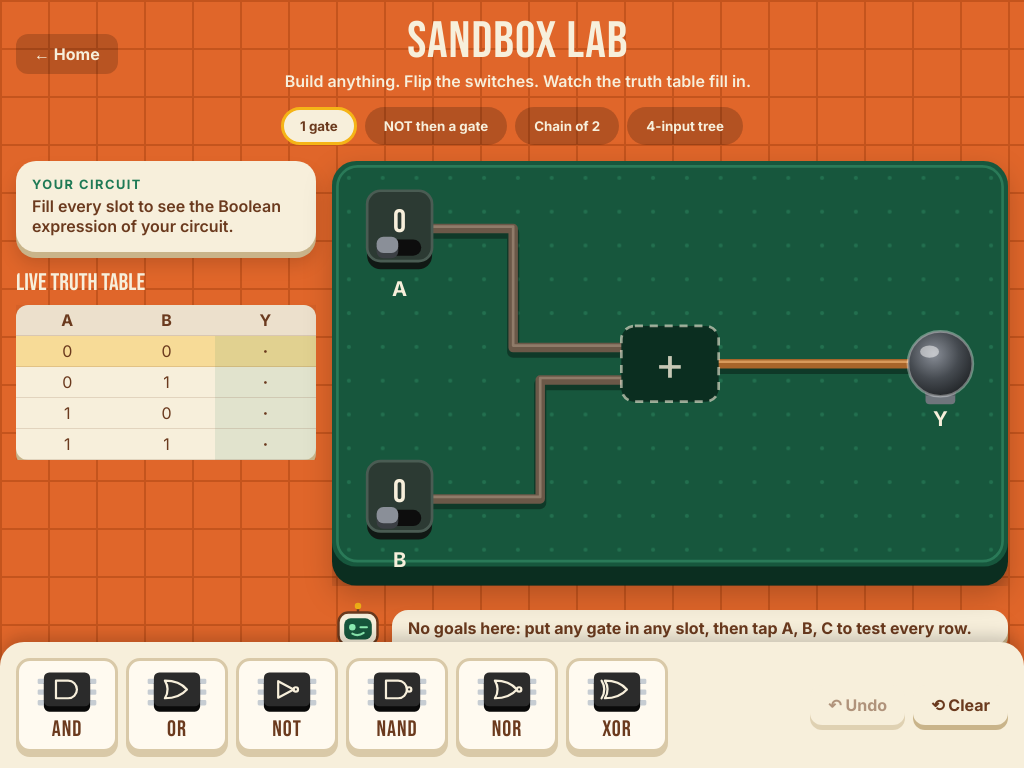
SandboxPage › offers bigger circuit shapes
Click the button "4-input tree".
click(685, 126)  # box [627,107,743,145]
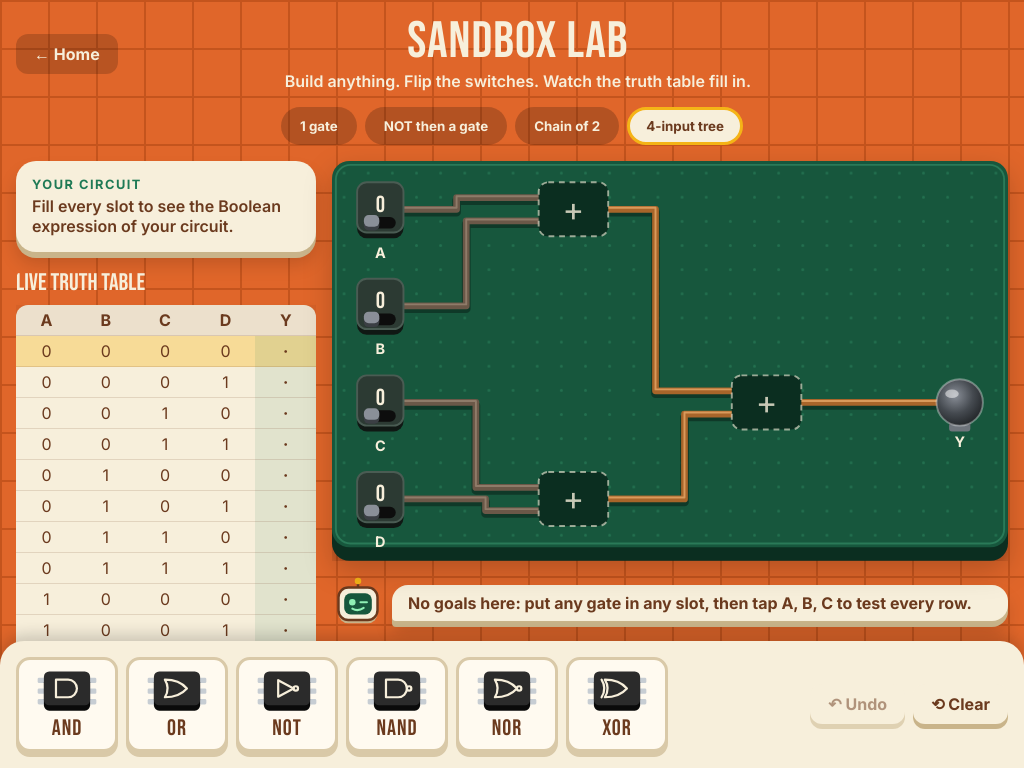
Now the number of rows is 17
